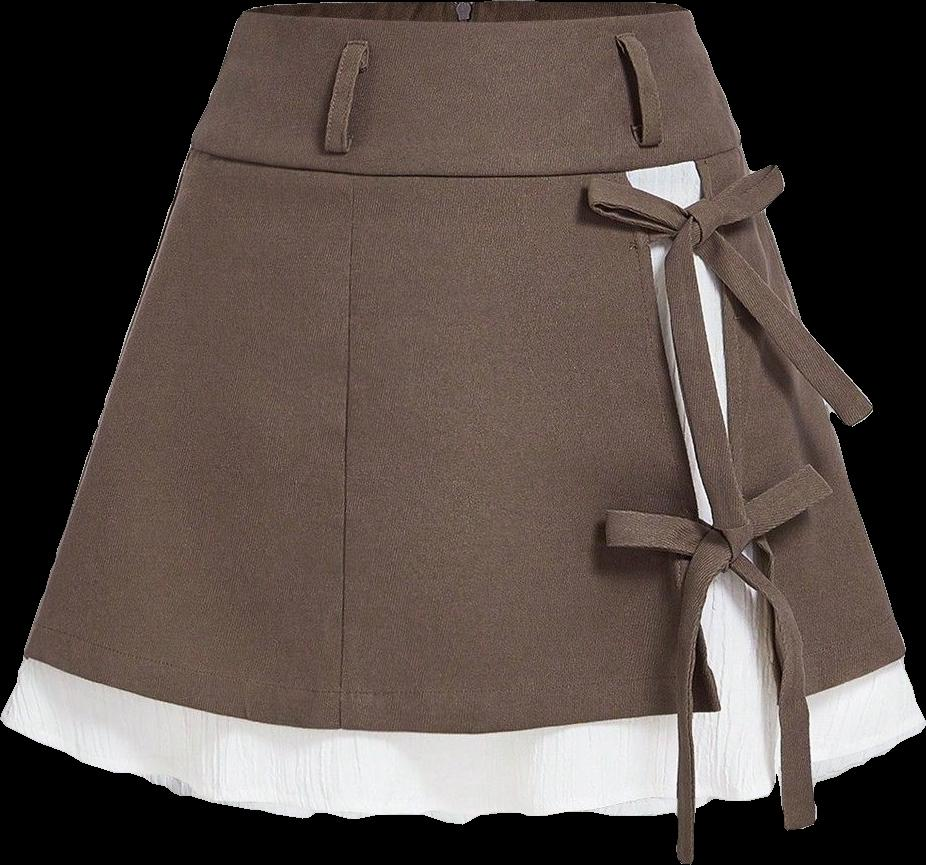Hemline: (19, 170, 719, 741), (696, 163, 909, 711), (0, 713, 925, 823)
Waistline: (186, 137, 744, 181), (236, 6, 691, 34)
